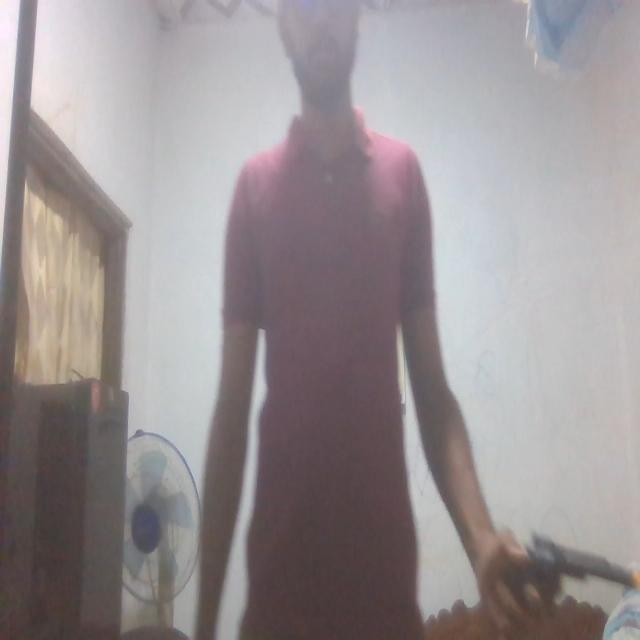Gun_Holder: (499, 520, 640, 640)
Person: (207, 0, 527, 640)
